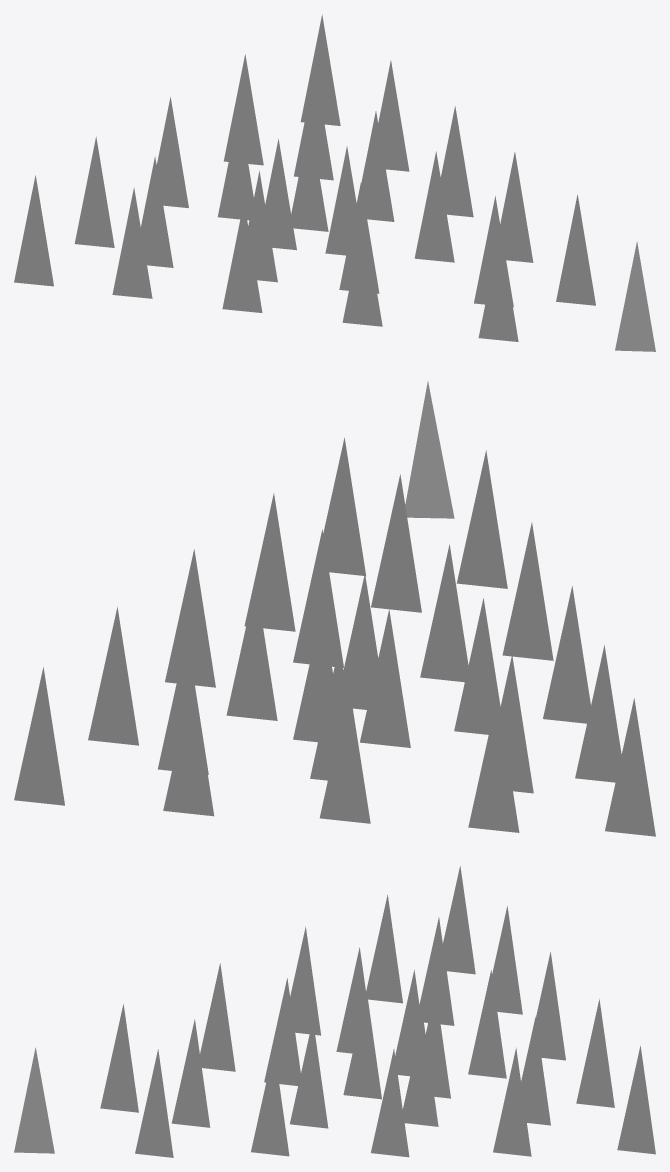
File: Dest_Tutorial_Thorn.FBX
3 views of the same model, one above another, from view 1: azimuth 30°, elevation 25°; view 2: azimuth 150°, elevation 25°; view 3: azimuth 270°, elevation 25° (orthographic). The views are drawn at different scales.
Visible parts, largest first — view 1: Pyramid006; view 2: Pyramid006; view 3: Pyramid006.
Boxes of the visible parts, x1=… form: Pyramid006: x1=14, y1=14, x2=655, y2=351; Pyramid006: x1=14, y1=381, x2=655, y2=836; Pyramid006: x1=14, y1=866, x2=655, y2=1157.
Size of the model in its own units: 21.04 by 5 by 28.52.
1 material, 1 textured.
